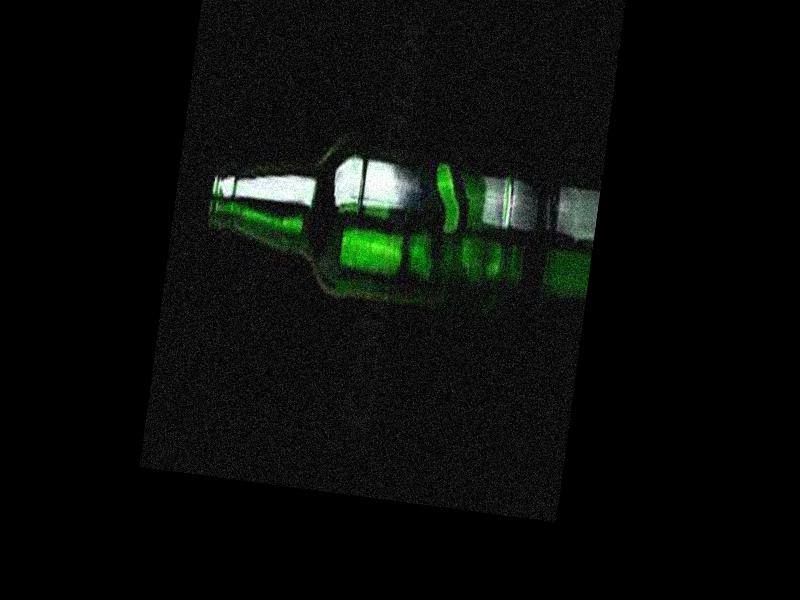Beer: (200, 137, 516, 319)
